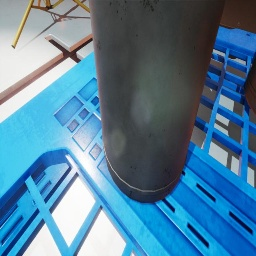NitrogenTank ,: (88, 0, 226, 203), (244, 56, 256, 116)
